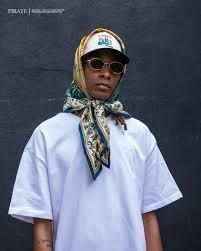scarf-kerchief: (60, 16, 145, 120)
sunglasses: (83, 53, 130, 79)
